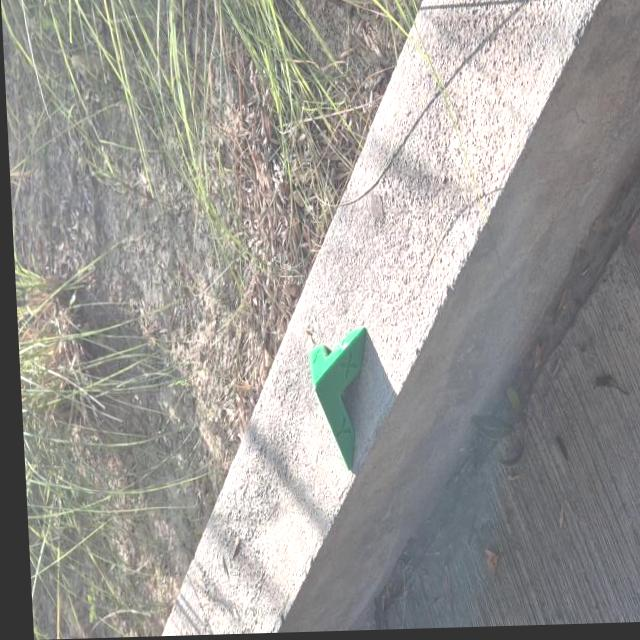eje: (305, 322, 375, 475)
